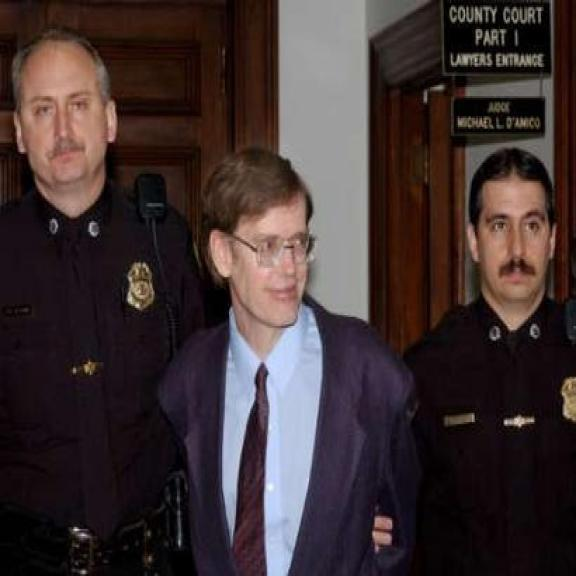face: (206, 207, 312, 336), (11, 64, 120, 184), (470, 181, 562, 313)
